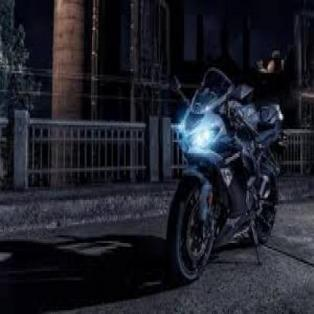Motocicleta: (166, 63, 282, 293)
